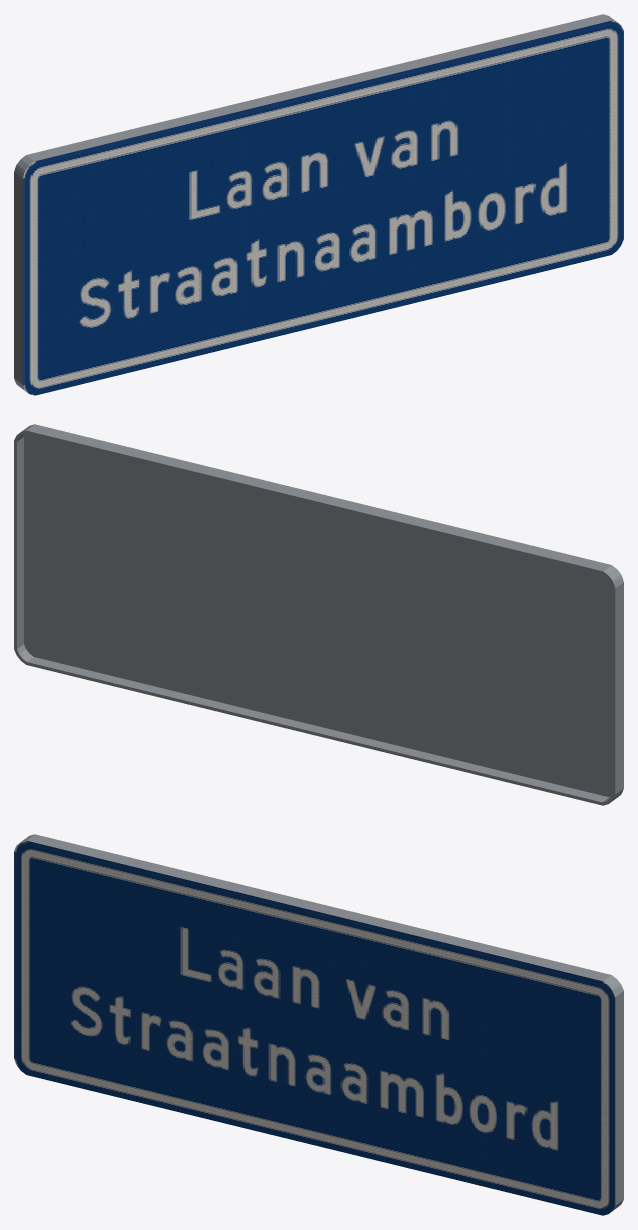
3 renders of one model, top to bottom at view 1: azimuth 30°, elevation 25°; view 2: azimuth 150°, elevation 25°; view 3: azimuth 330°, elevation 25°, orthographic.
Visible parts, largest first — view 1: cat_30224750adac5ce9; view 2: cat_30224750adac5ce9; view 3: cat_30224750adac5ce9.
Part boxes in pixels (<box>): cat_30224750adac5ce9: <box>14,14,623,395</box>; cat_30224750adac5ce9: <box>14,424,623,805</box>; cat_30224750adac5ce9: <box>14,834,623,1215</box>.
Bounding box in the file's own units: 0.6 × 0.015 × 0.2235.
Materials: 2 (1 with a texture image).
